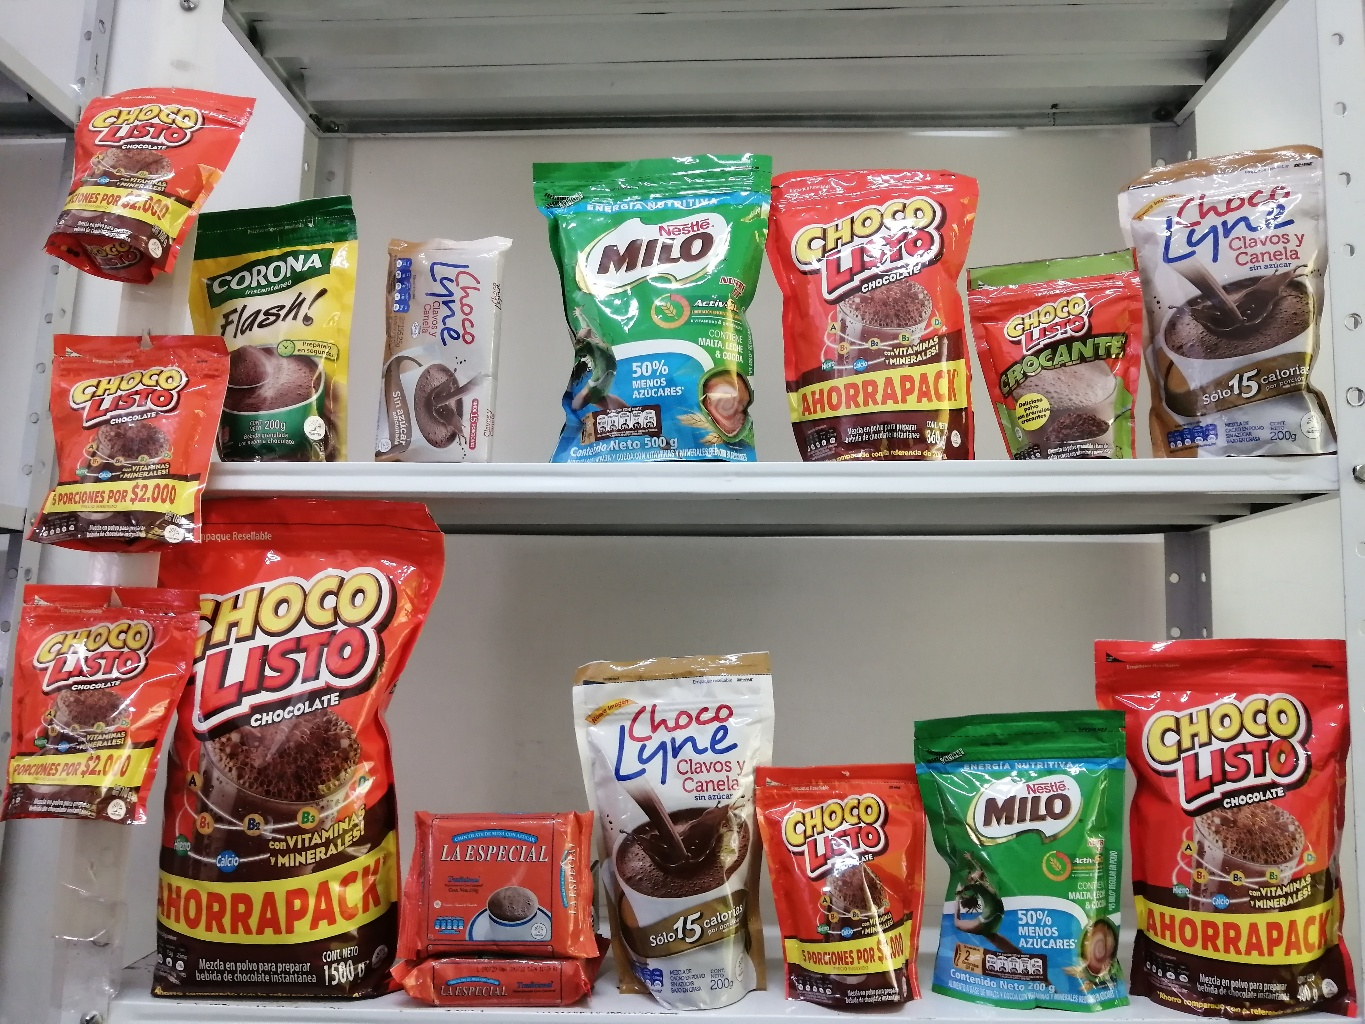COL0170102DYP10000: (949, 242, 1157, 469)
COL0170103DYP1,500: (134, 478, 464, 1007)
COL0170103DYP10000: (747, 754, 941, 1021)
COL0170103DYP36000: (758, 148, 983, 465)
COL0170103DYP40000: (1078, 620, 1355, 1018)
COL0170205DYP20000: (893, 699, 1144, 1020)
COL0170205DYP50000: (514, 136, 776, 470)
